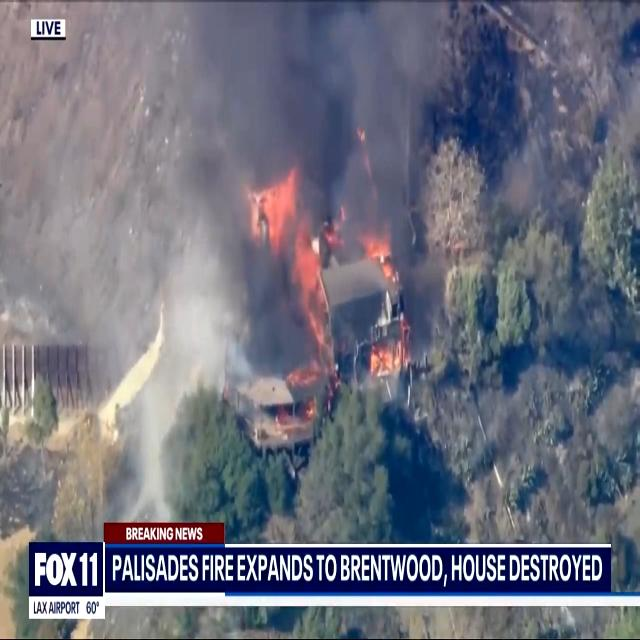no_helmet: (228, 0, 421, 185)
